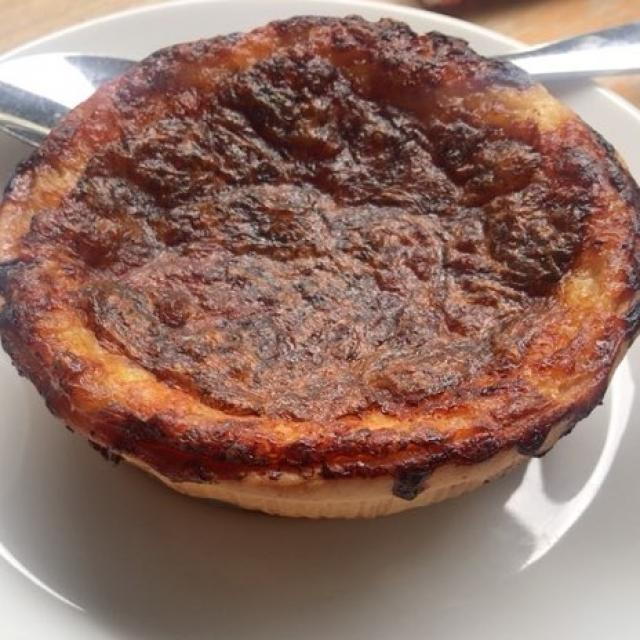quiche: (12, 17, 627, 510)
